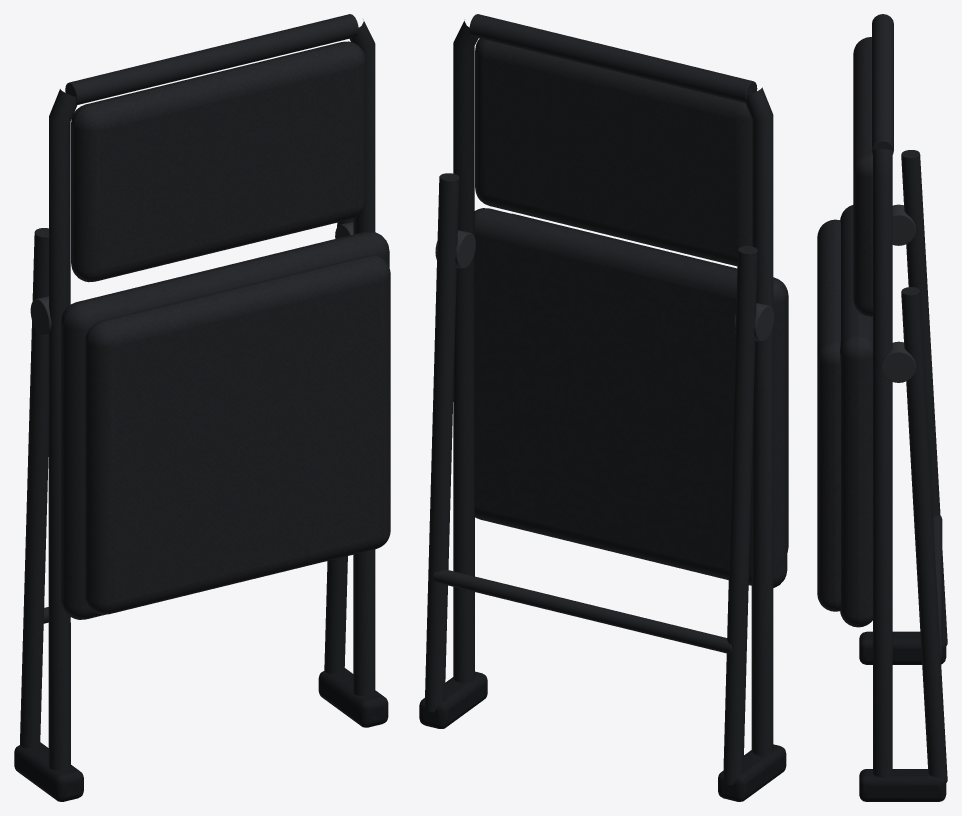
The model's file is 03_folding_chair_folded.glb.
The picture shows the model from 3 angles, left to right: view 1: azimuth 30°, elevation 25°; view 2: azimuth 150°, elevation 25°; view 3: azimuth 270°, elevation 25°; orthographic projection. The views are drawn at different scales.
Visible parts, largest first — view 1: 03_folding_chair_folded__folded_seat_pad, 03_folding_chair_folded__back_pad, 03_folding_chair_folded__folded_seat_rim, 03_folding_chair_folded__main_tube, 03_folding_chair_folded__folded_leg, 03_folding_chair_folded__back_top, 03_folding_chair_folded__main_tube.001, 03_folding_chair_folded__folded_leg.001, 03_folding_chair_folded__foot.001, 03_folding_chair_folded__foot, 03_folding_chair_folded__hinge; view 2: 03_folding_chair_folded__folded_seat_rim, 03_folding_chair_folded__back_pad, 03_folding_chair_folded__main_tube, 03_folding_chair_folded__main_tube.001, 03_folding_chair_folded__folded_leg, 03_folding_chair_folded__folded_leg.001, 03_folding_chair_folded__back_top, 03_folding_chair_folded__crossbar, 03_folding_chair_folded__foot, 03_folding_chair_folded__foot.001, 03_folding_chair_folded__folded_seat_pad, 03_folding_chair_folded__hinge.001 (+1 smaller); view 3: 03_folding_chair_folded__main_tube.001, 03_folding_chair_folded__folded_seat_rim, 03_folding_chair_folded__folded_leg.001, 03_folding_chair_folded__folded_seat_pad, 03_folding_chair_folded__back_pad, 03_folding_chair_folded__folded_leg, 03_folding_chair_folded__back_top, 03_folding_chair_folded__foot.001, 03_folding_chair_folded__foot, 03_folding_chair_folded__hinge.001, 03_folding_chair_folded__crossbar, 03_folding_chair_folded__hinge.
Part boxes in pixels (bbox=[...]): 03_folding_chair_folded__folded_seat_pad: bbox=[85, 255, 390, 614]; 03_folding_chair_folded__back_pad: bbox=[71, 41, 365, 282]; 03_folding_chair_folded__folded_seat_rim: bbox=[61, 231, 389, 619]; 03_folding_chair_folded__main_tube: bbox=[48, 89, 77, 770]; 03_folding_chair_folded__folded_leg: bbox=[19, 228, 48, 748]; 03_folding_chair_folded__back_top: bbox=[65, 14, 358, 104]; 03_folding_chair_folded__main_tube.001: bbox=[349, 19, 375, 696]; 03_folding_chair_folded__folded_leg.001: bbox=[324, 218, 353, 673]; 03_folding_chair_folded__foot.001: bbox=[318, 668, 388, 727]; 03_folding_chair_folded__foot: bbox=[14, 742, 83, 801]; 03_folding_chair_folded__hinge: bbox=[30, 296, 51, 335]; 03_folding_chair_folded__folded_seat_rim: bbox=[474, 208, 787, 587]; 03_folding_chair_folded__back_pad: bbox=[475, 38, 751, 266]; 03_folding_chair_folded__main_tube: bbox=[745, 87, 773, 755]; 03_folding_chair_folded__main_tube.001: bbox=[453, 21, 478, 682]; 03_folding_chair_folded__folded_leg: bbox=[723, 246, 757, 785]; 03_folding_chair_folded__folded_leg.001: bbox=[425, 173, 459, 712]; 03_folding_chair_folded__back_top: bbox=[469, 14, 757, 102]; 03_folding_chair_folded__crossbar: bbox=[433, 569, 731, 653]; 03_folding_chair_folded__foot: bbox=[718, 744, 786, 801]; 03_folding_chair_folded__foot.001: bbox=[419, 671, 487, 728]; 03_folding_chair_folded__folded_seat_pad: bbox=[512, 213, 788, 552]; 03_folding_chair_folded__hinge.001: bbox=[435, 230, 475, 268]; 03_folding_chair_folded__main_tube.001: bbox=[873, 149, 892, 777]; 03_folding_chair_folded__folded_seat_rim: bbox=[840, 205, 872, 627]; 03_folding_chair_folded__folded_leg.001: bbox=[901, 287, 947, 782]; 03_folding_chair_folded__folded_seat_pad: bbox=[817, 219, 840, 611]; 03_folding_chair_folded__back_pad: bbox=[853, 37, 872, 316]; 03_folding_chair_folded__folded_leg: bbox=[901, 150, 947, 645]; 03_folding_chair_folded__back_top: bbox=[872, 14, 893, 154]; 03_folding_chair_folded__foot.001: bbox=[859, 769, 946, 801]; 03_folding_chair_folded__foot: bbox=[859, 631, 946, 664]; 03_folding_chair_folded__hinge.001: bbox=[881, 341, 915, 382]; 03_folding_chair_folded__crossbar: bbox=[933, 515, 942, 658]; 03_folding_chair_folded__hinge: bbox=[892, 204, 915, 245].
Size of the model in its own units: 0.448 by 0.9095 by 0.1649.
Materials: 4 (4 with a texture image).
